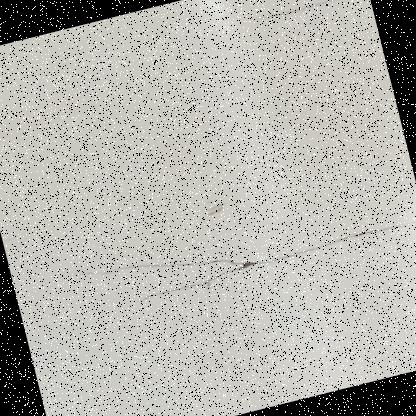Crack: (39, 144, 415, 346), (172, 0, 376, 68)
